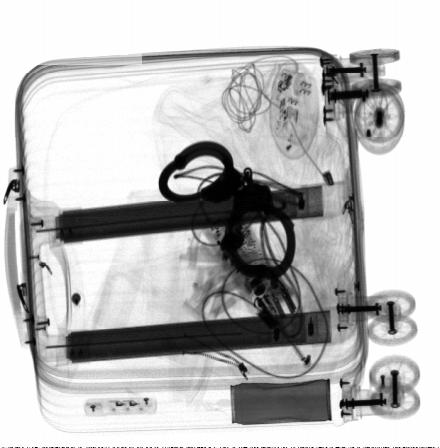HandCuffs: (157, 140, 298, 281)
